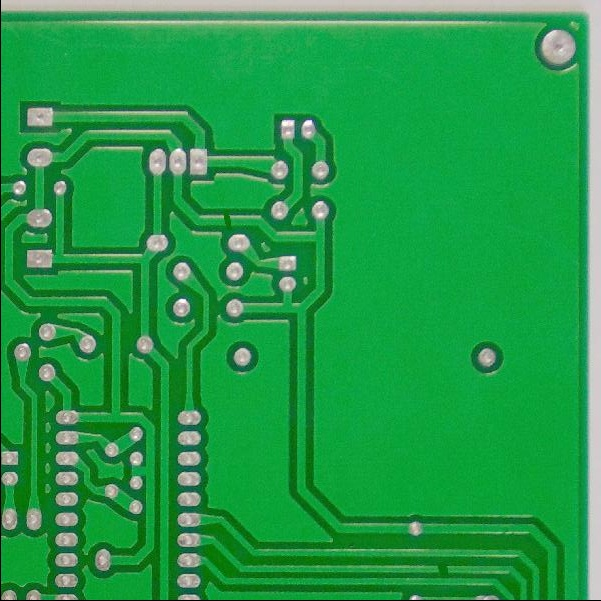open_circuit: (427, 562, 453, 576), (218, 211, 236, 231)
